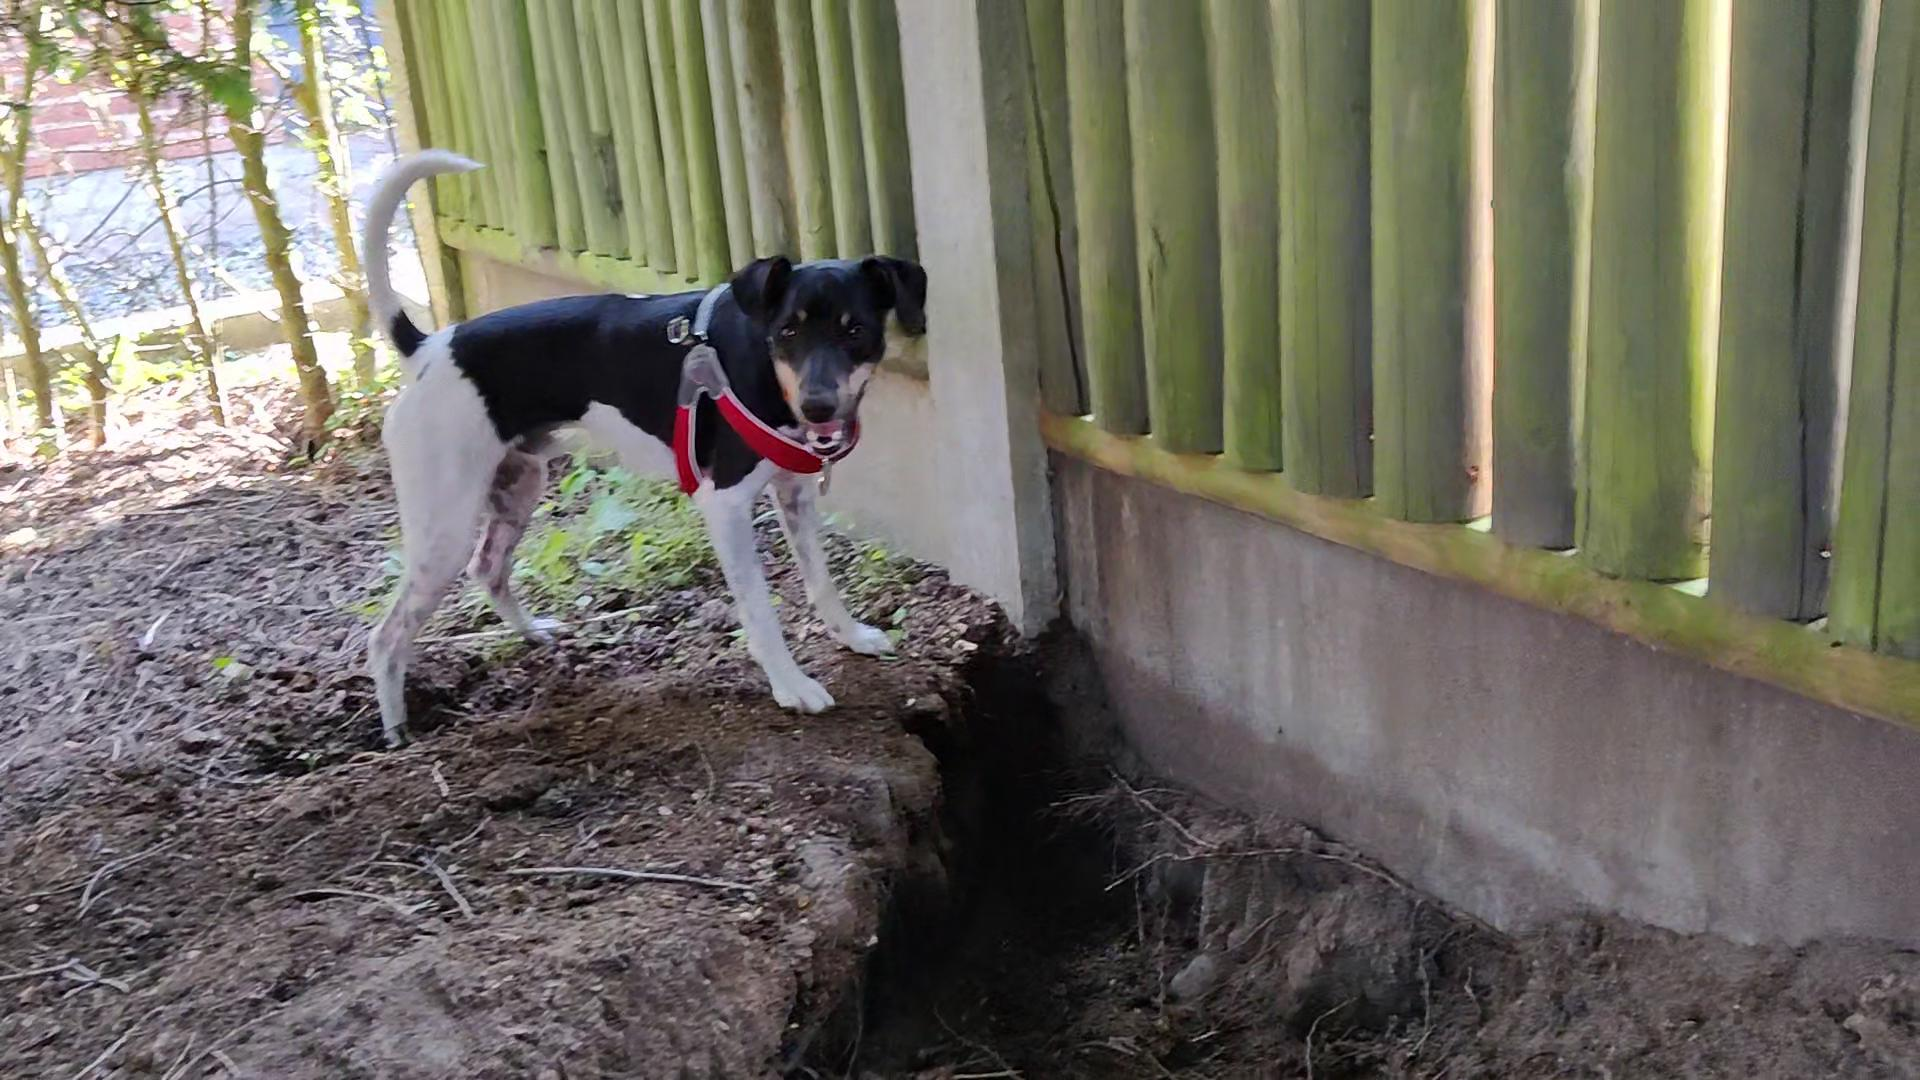Dog: (320, 125, 964, 756)
